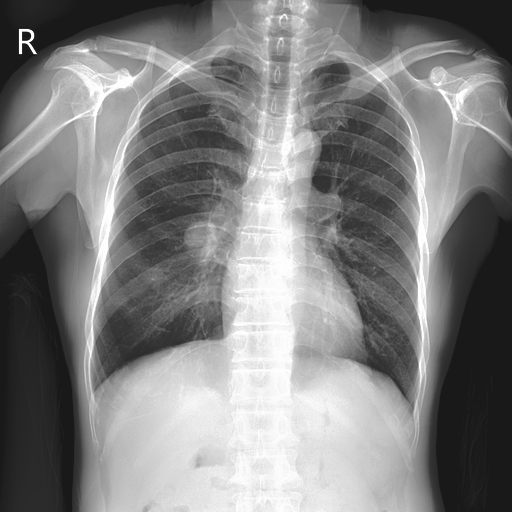Pulmonary fibrosis: (182, 222, 220, 247)
